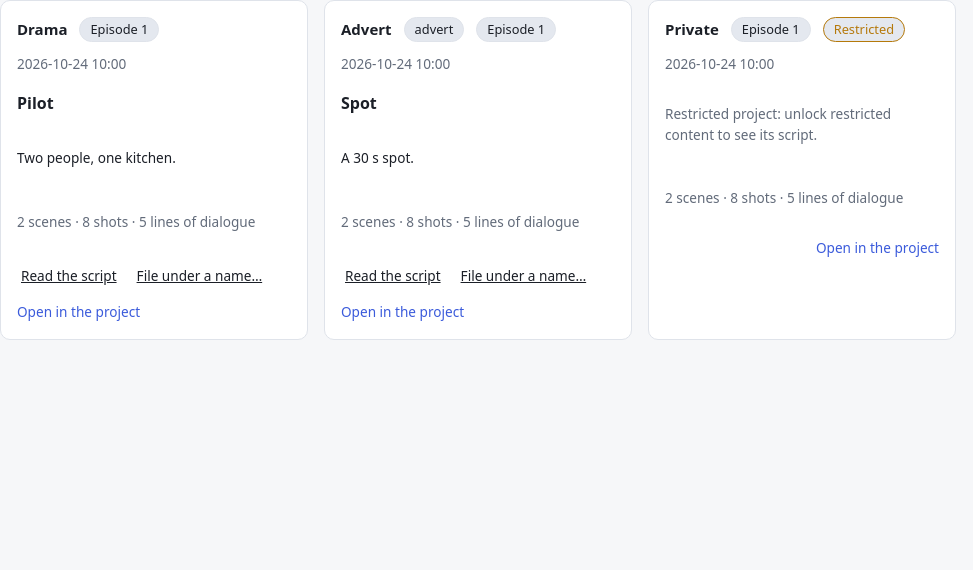
it: project scripts in the library › lists the scripts of every project, the advert too, and opens one as readable text
Check: the heading "Pilot" is shown, box [17,92,54,114]
Check: the heading "Spot" is shown, box [341,92,377,114]
Click the button "Read the script" below "A 30 s spot." at {"x": 393, "y": 276}, box [341,262,445,290]
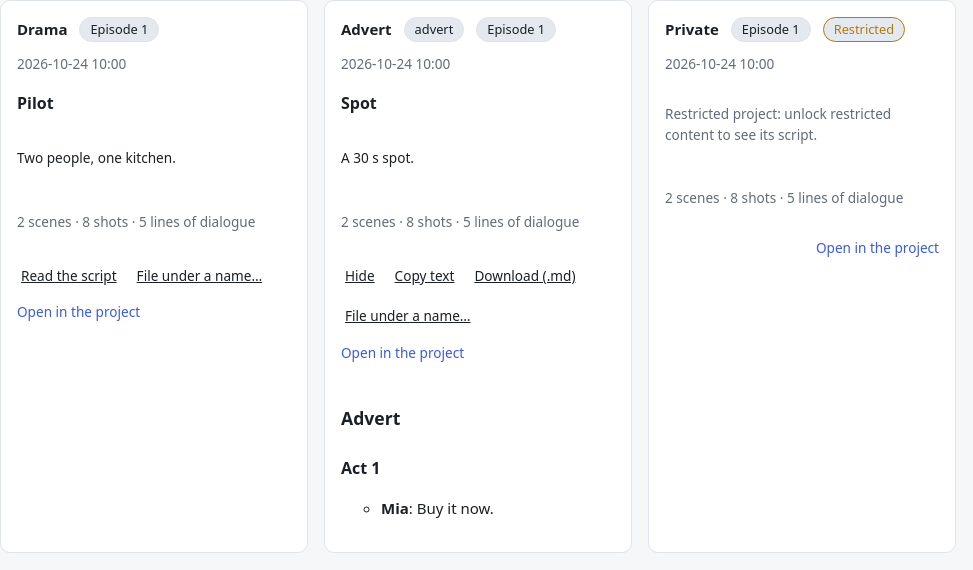
Check: the text "Buy it now." is shown, box [409,498,494,518]
Check: the button "Download (.md)" is shown, box [470,262,580,290]
